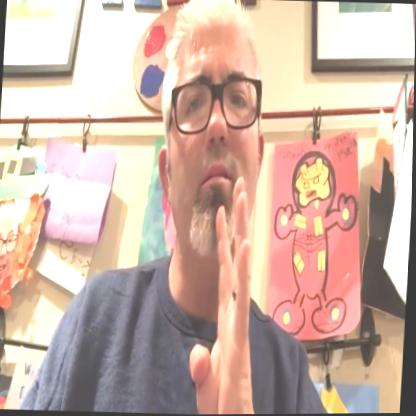Talk: (136, 0, 291, 415)
